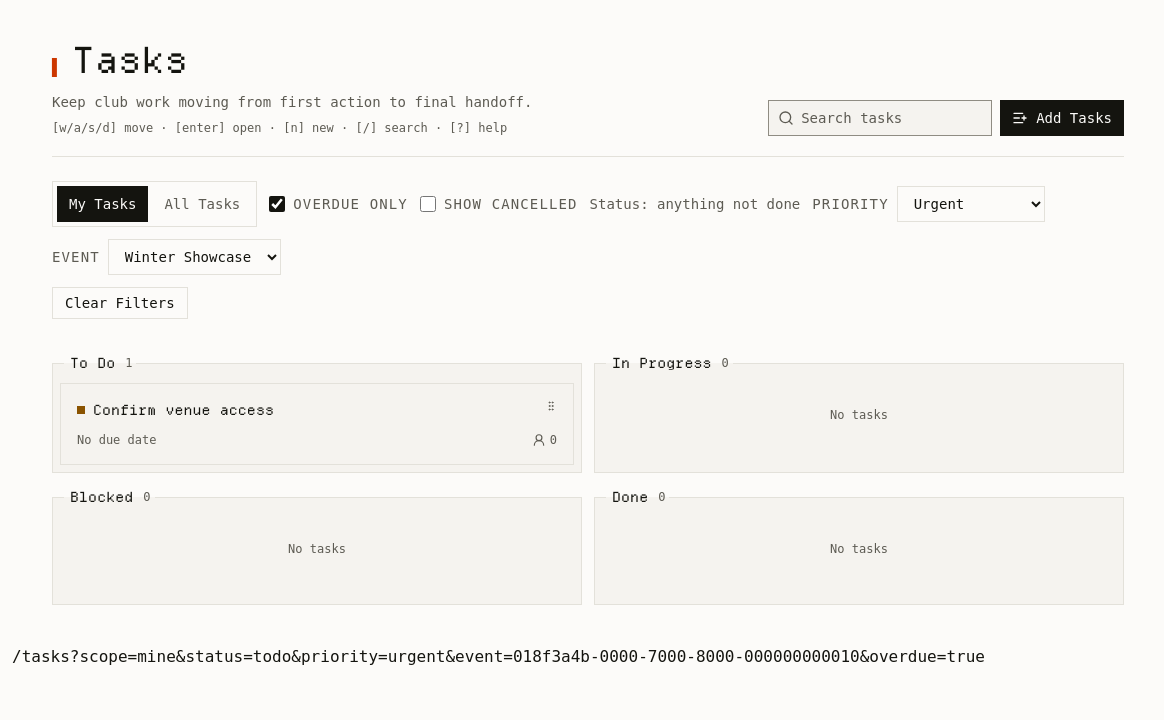
Test case: TasksPage › turns the URL's filters into a server read, and Clear Filters back into /tasks
Expected: the heading "Confirm venue access" is shown, 93,401 -> 274,419
Click the button "Clear Filters" at [120, 303], box 52,287 -> 188,319
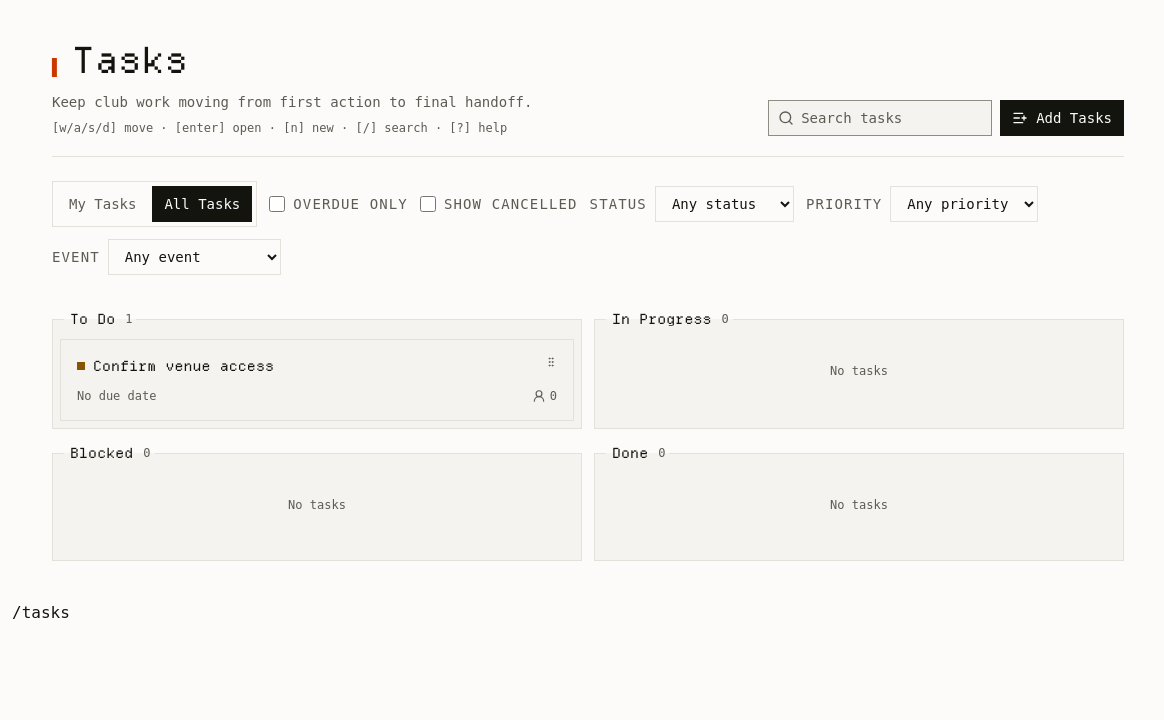
Expected: the text with test id "tasks-location" does not show "overdue", 12,603 -> 70,622
Expected: the text with test id "tasks-location" reads "/tasks", 12,603 -> 70,622
